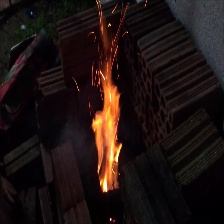fire: (79, 43, 131, 195)
